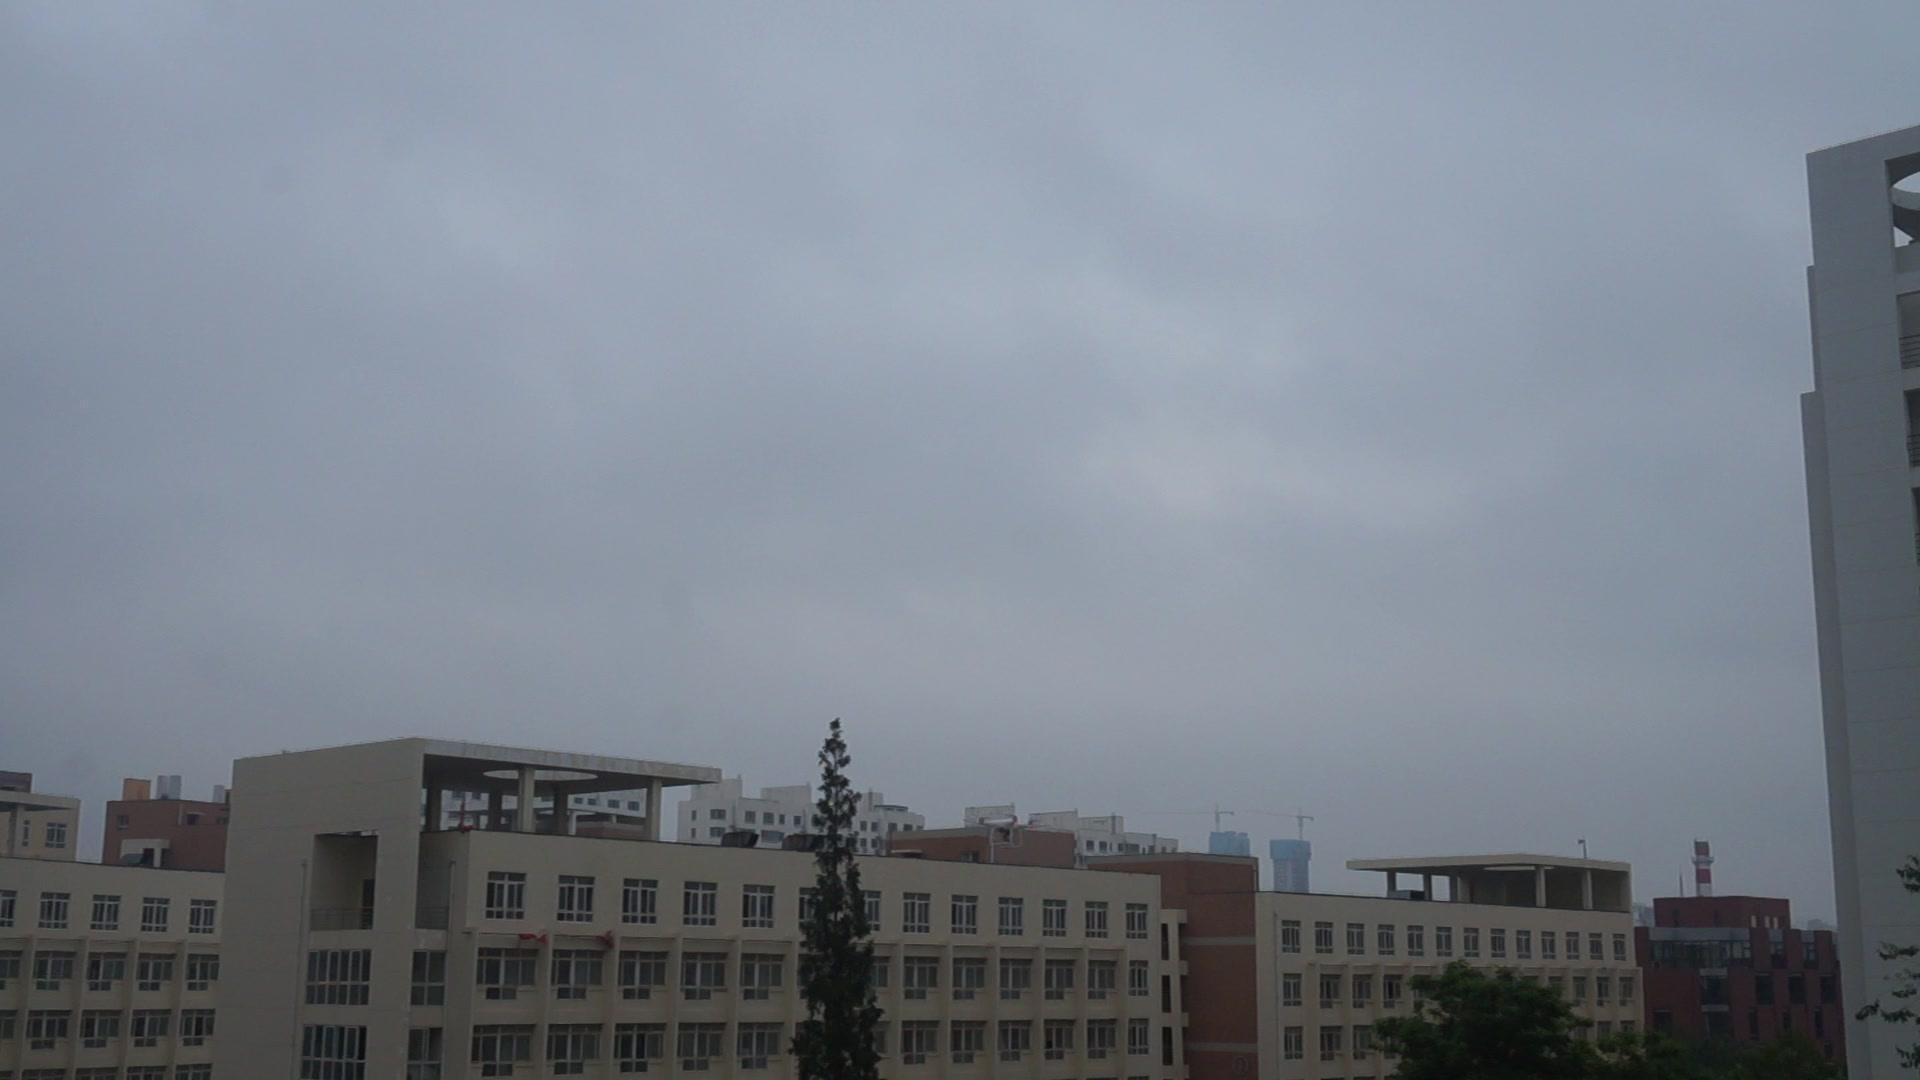UAV: (964, 815, 1042, 848)
